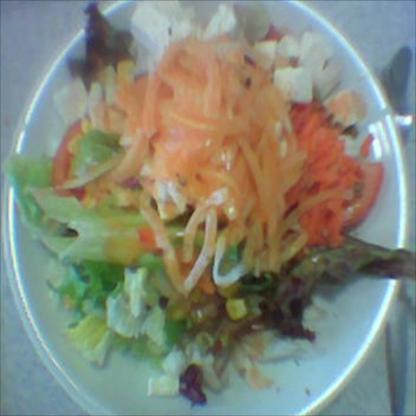Cabbage: (1, 124, 244, 406)
